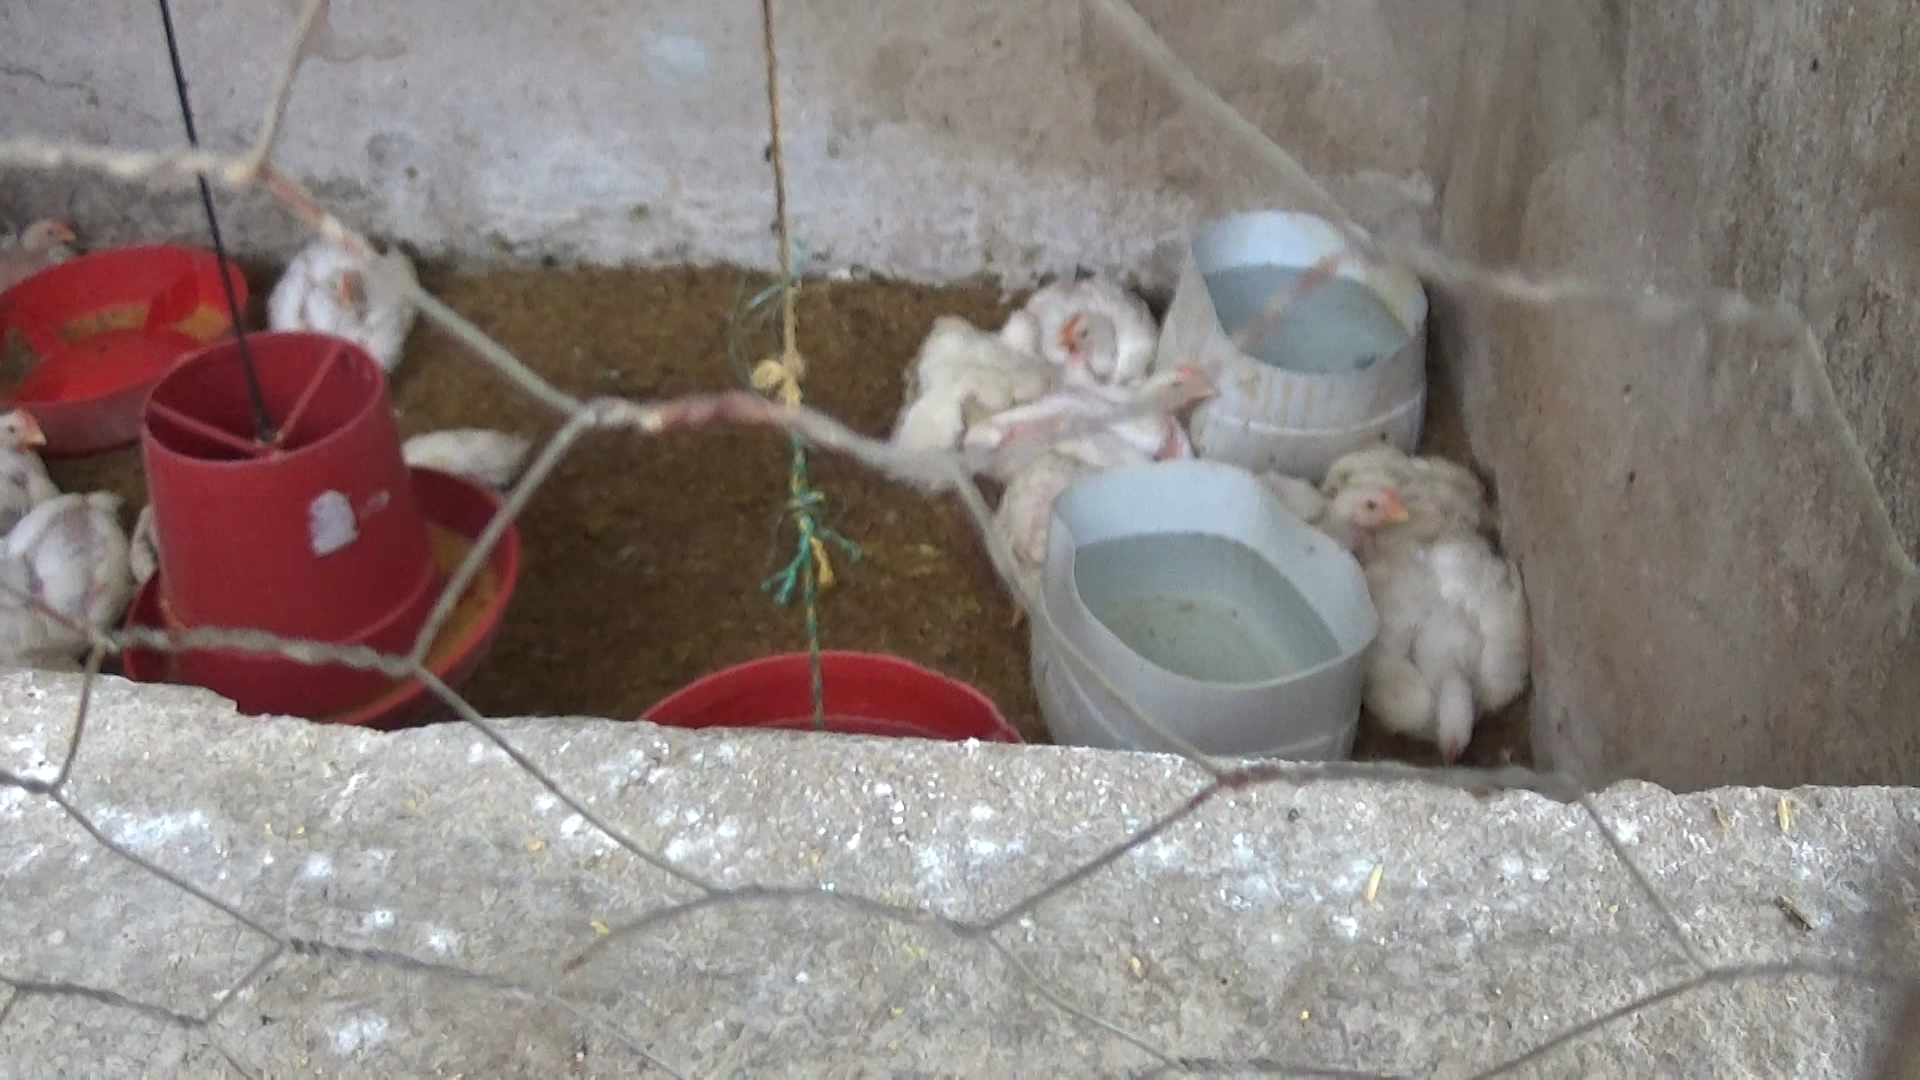Pollos: (1361, 529, 1560, 773), (972, 353, 1232, 469), (265, 200, 429, 353), (0, 479, 135, 646), (997, 255, 1164, 388), (1294, 452, 1402, 541), (0, 397, 46, 508)
